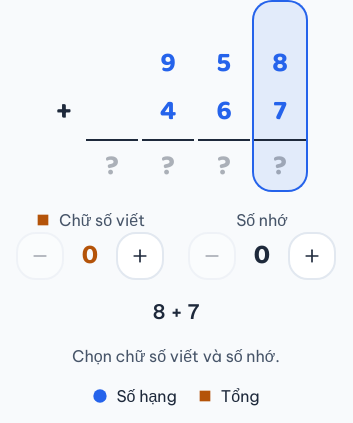
Test case: ColumnTry › reports digit and carry and satisfies the validator
Expected: the text "Chọn chữ số viết và số nhớ." is shown, left=72, top=344, right=280, bottom=368
Click the button named "Tăng chữ số viết" at (140, 256), box left=116, top=232, right=164, bottom=280
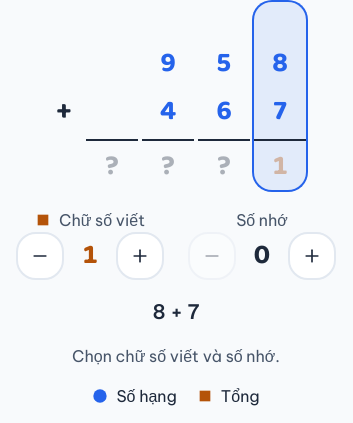
Click the button named "Tăng chữ số viết" at (140, 256), box left=116, top=232, right=164, bottom=280
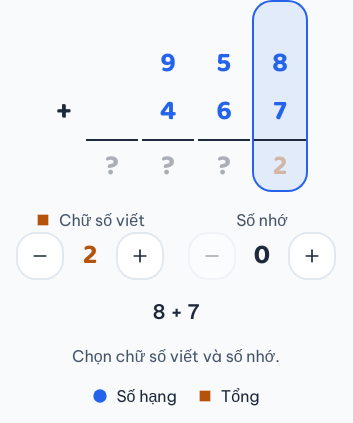
Click the button named "Tăng chữ số viết" at (140, 256), box left=116, top=232, right=164, bottom=280
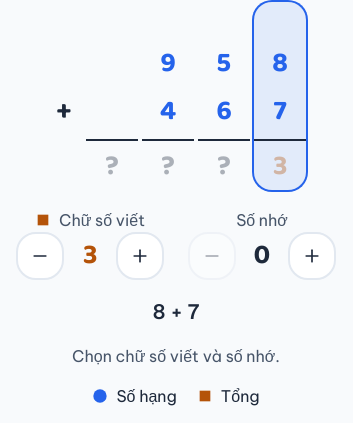
Click the button named "Tăng chữ số viết" at (140, 256), box left=116, top=232, right=164, bottom=280
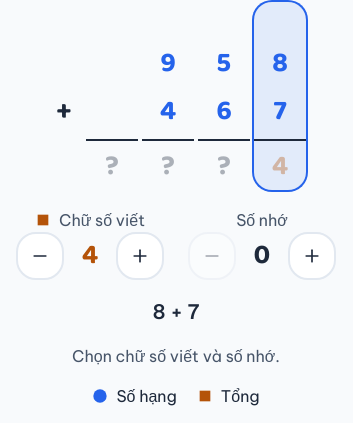
Click the button named "Tăng chữ số viết" at (140, 256), box left=116, top=232, right=164, bottom=280
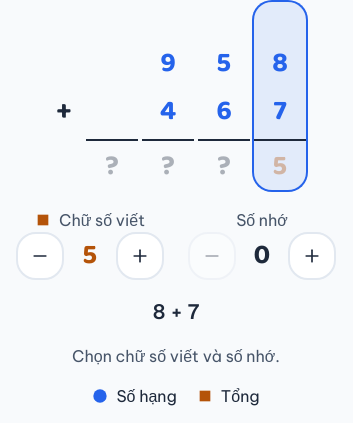
Click the button named "Tăng số nhớ" at (312, 256), box left=288, top=232, right=336, bottom=280
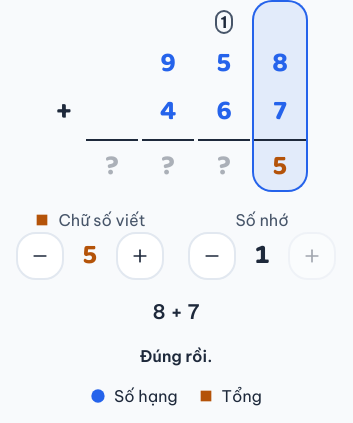
Result: the text "Đúng rồi." is shown at left=140, top=344, right=212, bottom=368
